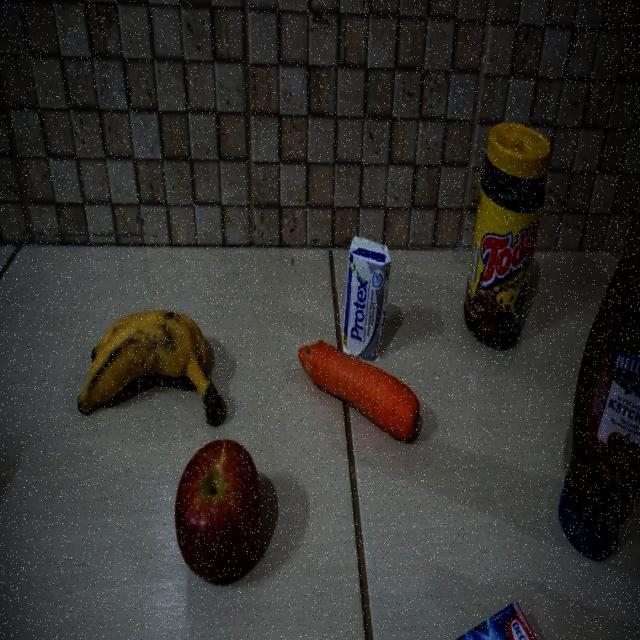Apple: (172, 433, 262, 580)
Banana: (76, 305, 226, 424)
Carrot: (296, 341, 422, 439)
ChocolatePowder: (465, 118, 551, 347)
Gelatine: (446, 594, 539, 638)
Ketchup: (558, 250, 640, 560)
Soap: (344, 234, 390, 340)
